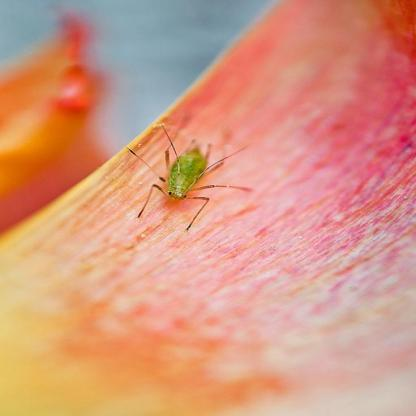aphid: (128, 121, 239, 217)
